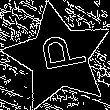P_W: (30, 34, 87, 80)
